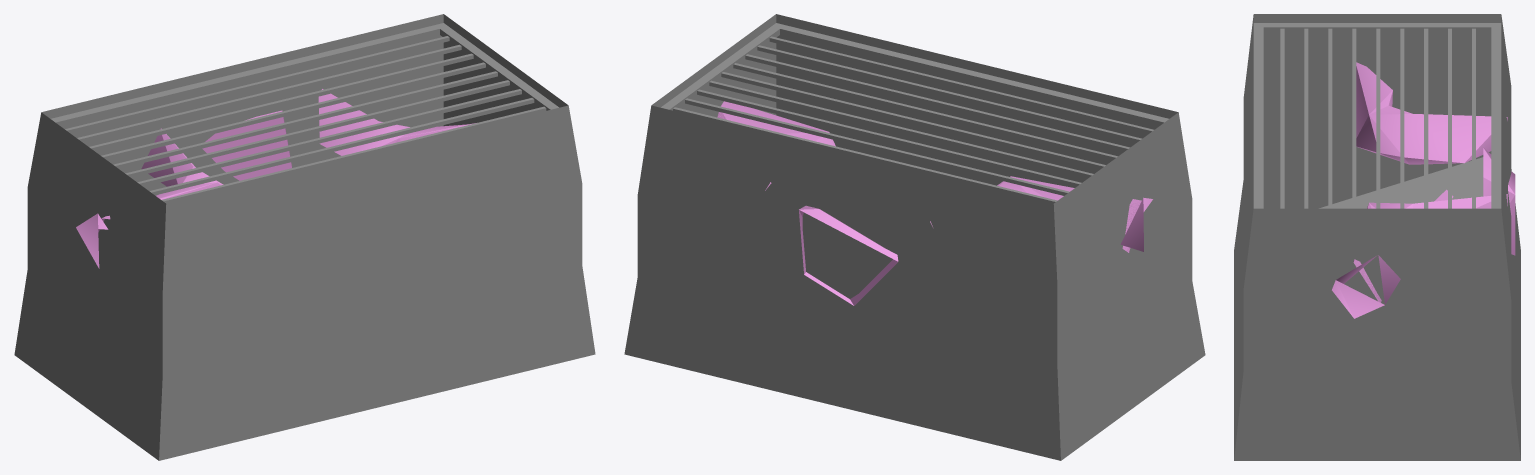
The model's file is IceMachine_LOD2.fbx.
3 views of the same model, side by side, from view 1: azimuth 30°, elevation 25°; view 2: azimuth 150°, elevation 25°; view 3: azimuth 270°, elevation 25° (orthographic).
Parts seen in each view (by area): view 1: IceMachine005, IceMachine1_003, IceMachine006; view 2: IceMachine005, IceMachine1_003, IceMachine006; view 3: IceMachine005, IceMachine1_003, IceMachine006.
Part boxes in pixels (x1,y1,x2,y2): IceMachine005: (14, 14, 595, 460); IceMachine1_003: (51, 23, 558, 203); IceMachine006: (76, 89, 475, 268); IceMachine005: (624, 14, 1205, 460); IceMachine1_003: (661, 23, 1168, 203); IceMachine006: (717, 101, 1152, 305); IceMachine005: (1234, 14, 1520, 460); IceMachine1_003: (1253, 23, 1501, 208); IceMachine006: (1332, 62, 1515, 318).
Size of the model in its own units: 7.24 by 3.81 by 4.06.
